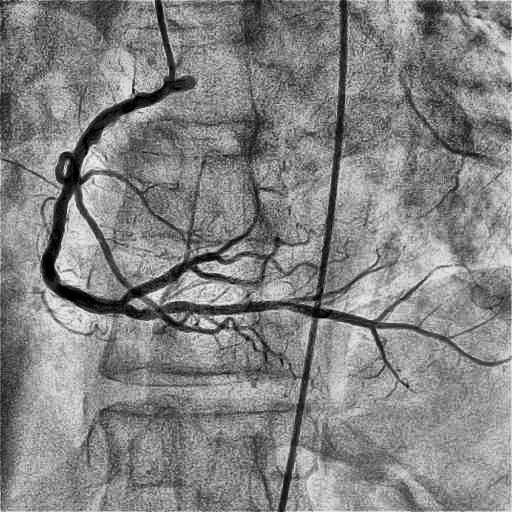pborca: (121, 251, 306, 303)
pda: (125, 301, 489, 366)
rca: (41, 84, 171, 314)
